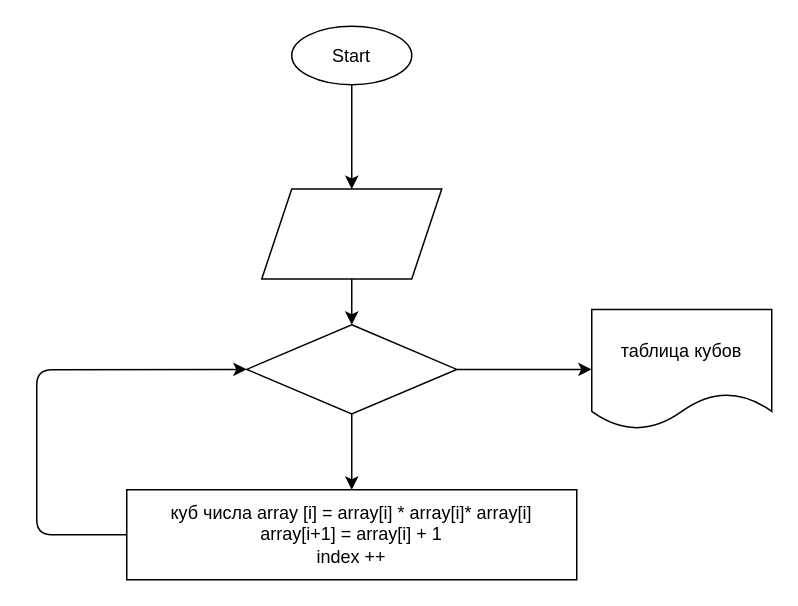
This 798x606 diagram has some shape labels left out. Each missing label, with the centre of its shape:
count = N array [count] index = 0 array[index] = 1: (x=351, y=233)
i < count: (x=351, y=368)
